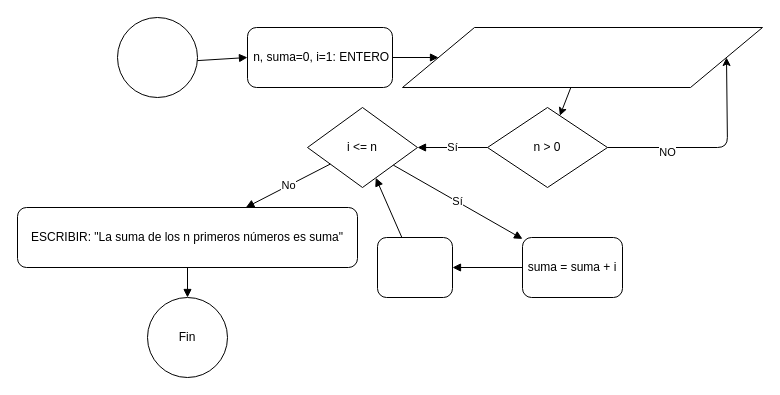
This 780x395 diagram has some shape labels left out. The shapes that lost their labels are listed below. From the top down, each one's centre as x and y in pixels, then its label:
point (157, 57): Inicio
point (582, 57): ESCRIBIR: "Introduce un número positivo" LEER: n
point (414, 267): i = i + 1
